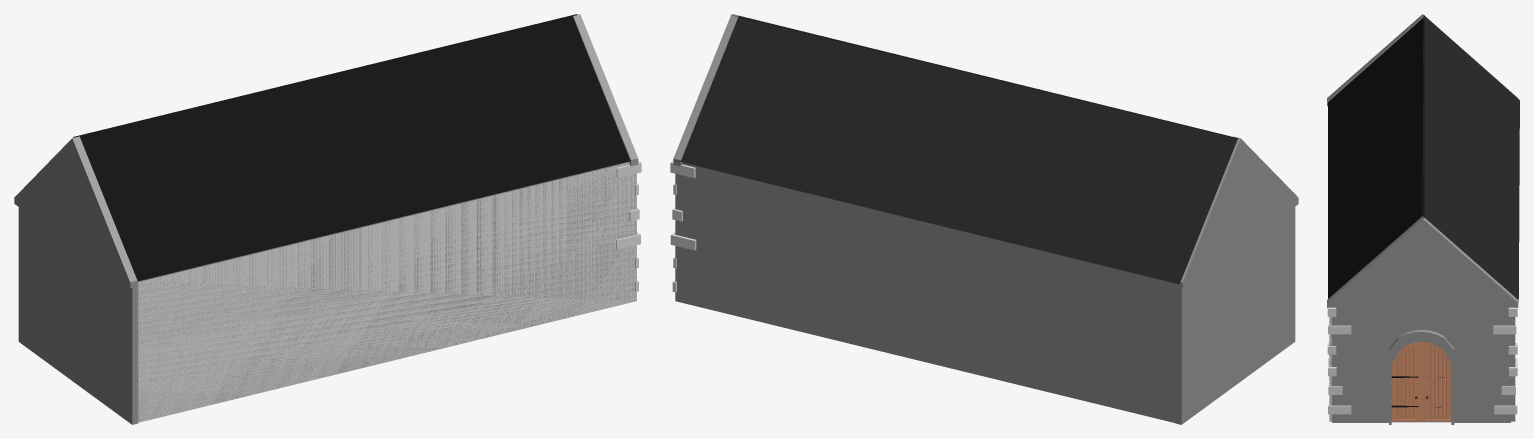
Rendered from Kerk base.fbx.
The picture shows the model from 3 angles, left to right: view 1: azimuth 30°, elevation 25°; view 2: azimuth 150°, elevation 25°; view 3: azimuth 270°, elevation 25°; orthographic projection. The views are drawn at different scales.
Parts seen in each view (by area): view 1: Plane, Muur, Muur.002, Muur.003, Cube.016, Cube.015; view 2: Plane.001, Muur.001, Muur.003, Cube.016, Cube.015; view 3: Plane.001, Plane, Muur front, Cube.015, door, door.001, Cube.016, Muur.001, Cube.011, Cube.013, Cube.005, Cube.007.
Boxes of the visible parts, x1,y1,x2,y2 form: Plane: (73,14,629,281); Muur: (138,162,636,422); Muur.002: (137,161,636,421); Muur.003: (18,207,138,424); Cube.016: (14,136,137,288); Cube.015: (572,14,638,166); Plane.001: (675,14,1237,284); Muur.001: (675,162,1175,423); Muur.003: (1175,207,1295,424); Cube.016: (1175,136,1298,288); Cube.015: (673,14,738,166); Plane.001: (1422,15,1519,302); Plane: (1328,15,1424,298); Muur front: (1332,305,1510,424); Cube.015: (1327,216,1518,307); door: (1391,342,1421,421); door.001: (1422,342,1451,421); Cube.016: (1327,14,1518,106); Muur.001: (1511,317,1515,421); Cube.011: (1494,405,1517,414); Cube.013: (1493,325,1516,334); Cube.005: (1328,405,1351,414); Cube.007: (1328,325,1351,334).
Bounding box in the file's own units: 17448 × 8447 × 6873.
